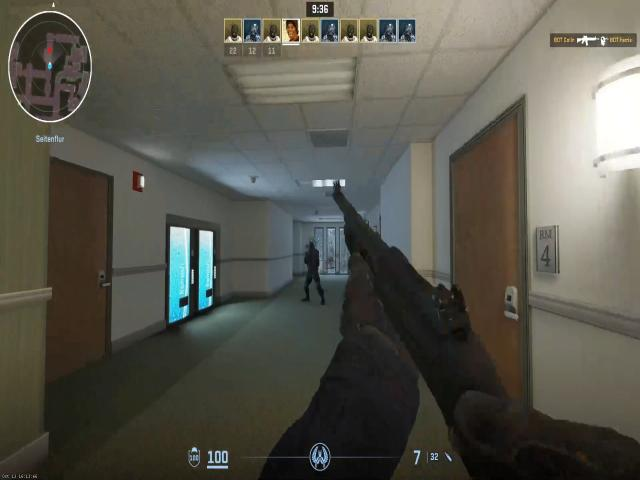CT: (299, 241, 324, 306)
CT-Head: (307, 239, 316, 254)
